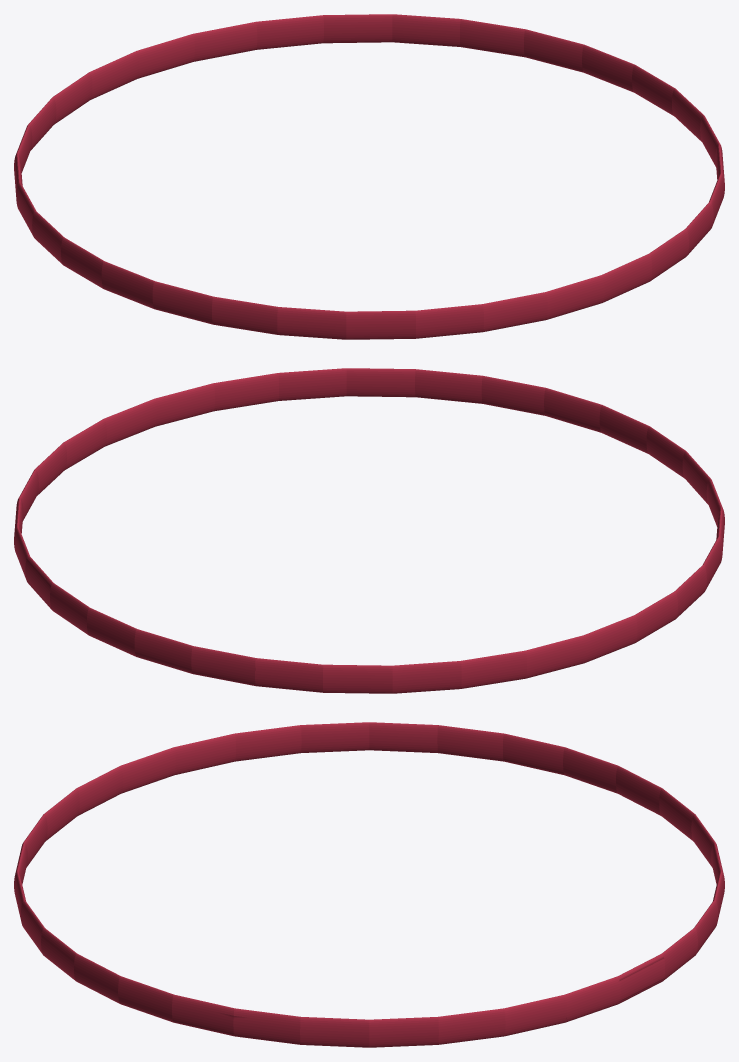
File: SmallRedCircle.obj
3 views of the same model, one above another, from view 1: azimuth 30°, elevation 25°; view 2: azimuth 150°, elevation 25°; view 3: azimuth 270°, elevation 25° (orthographic).
Visible parts, largest first — view 1: Torus.003; view 2: Torus.003; view 3: Torus.003.
Part boxes in pixels (x1,y1,x2,y2): Torus.003: [14, 14, 724, 339]; Torus.003: [14, 368, 724, 693]; Torus.003: [14, 722, 724, 1047].
Size of the model in its own units: 0.462 by 0.0201 by 0.462.
1 material, 1 textured.
